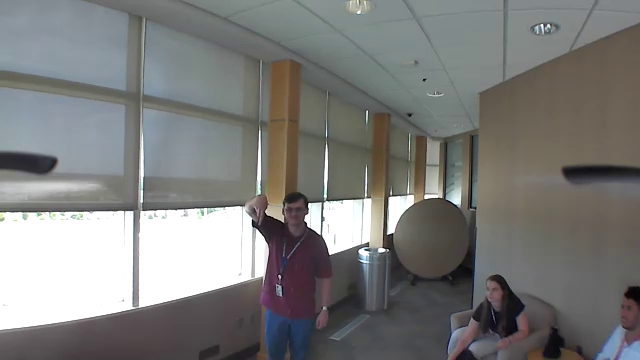down: (249, 190, 270, 229)
